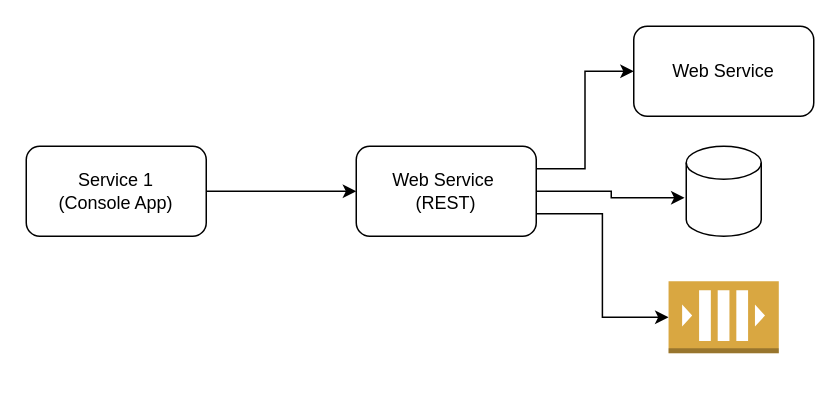
Image size: 840x411. Some labels were removed from this diagram. The centre of each missing label's shape, as x and y in pixels:
DB: the point at 723,190
Queue: the point at 723,316
